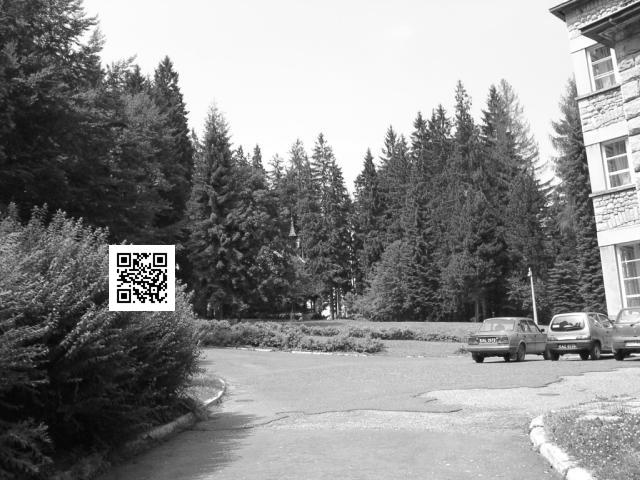qr_code: (115, 249, 174, 306)
